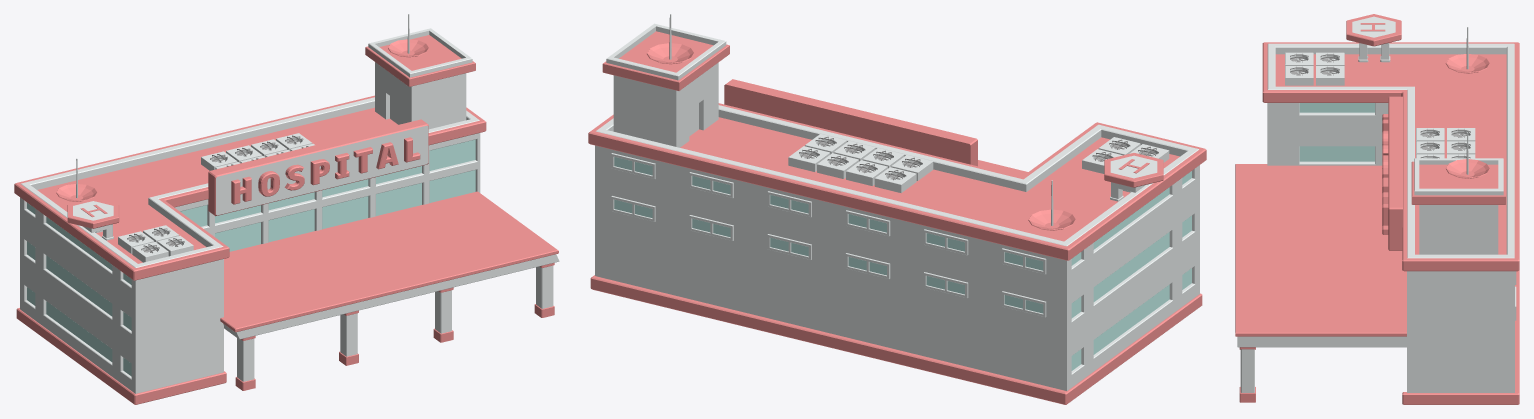
Rendered from Hospital.fbx.
3 renders of one model, left to right at view 1: azimuth 30°, elevation 25°; view 2: azimuth 150°, elevation 25°; view 3: azimuth 270°, elevation 25°, orthographic. The views are drawn at different scales.
Parts seen in each view (by area): view 1: Hospital; view 2: Hospital; view 3: Hospital.
Boxes of the visible parts, x1=… form: Hospital: x1=14, y1=14, x2=559, y2=404; Hospital: x1=588, y1=14, x2=1206, y2=404; Hospital: x1=1235, y1=14, x2=1519, y2=404.
Bounding box in the file's own units: 3681 × 1896 × 1958.
